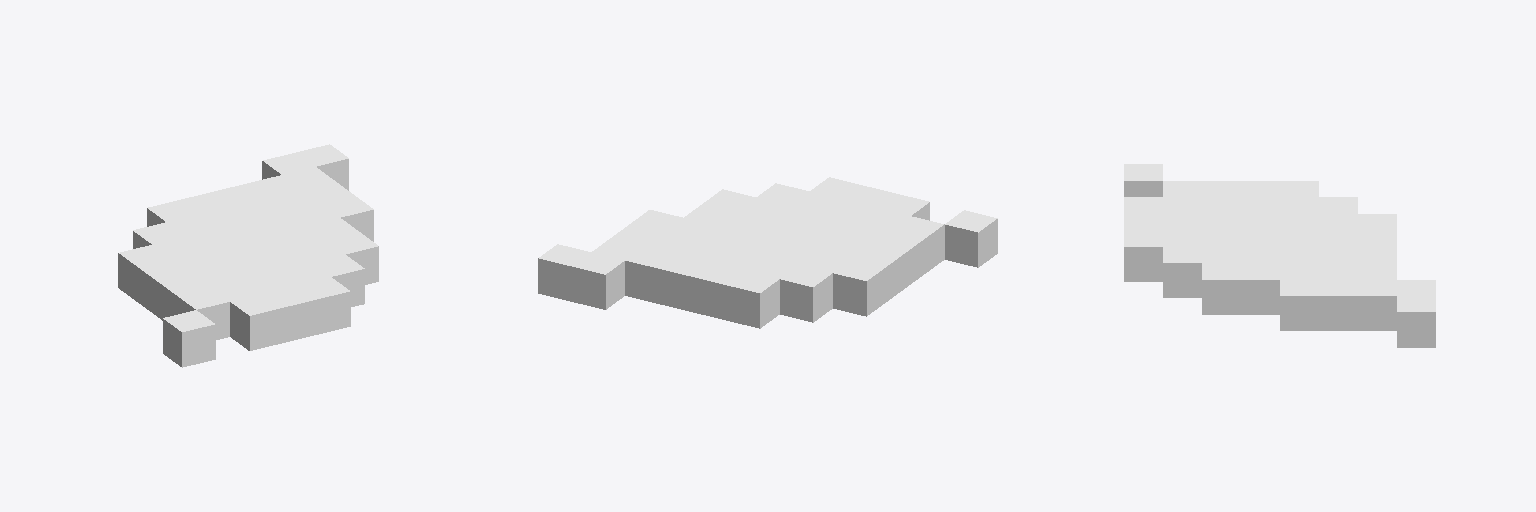
Rendered from Mini_Plant.obj.
3 renders of one model, left to right at view 1: azimuth 30°, elevation 25°; view 2: azimuth 150°, elevation 25°; view 3: azimuth 270°, elevation 25°, orthographic.
Parts seen in each view (by area): view 1: object 1; view 2: object 1; view 3: object 1.
Boxes of the visible parts, box(x1,y1,x2,y2) form: object 1: box(118, 144, 378, 367); object 1: box(538, 177, 997, 328); object 1: box(1124, 164, 1435, 347).
Size of the model in its own units: 0.9 by 0.1 by 0.8.